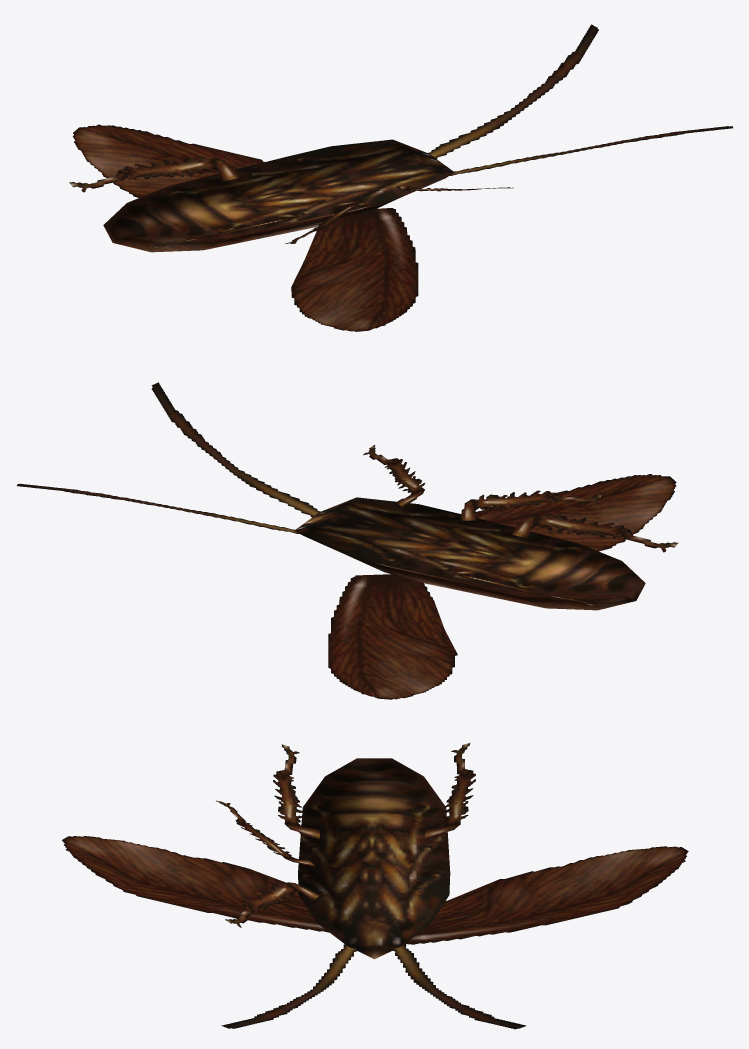
File: em029_emdui.obj
The picture shows the model from 3 angles, top to bottom: view 1: azimuth 30°, elevation 25°; view 2: azimuth 150°, elevation 25°; view 3: azimuth 270°, elevation 25°; orthographic projection. The views are drawn at different scales.
Visible parts, largest first — view 1: part_00, part_03, part_02, part_01; view 2: part_00, part_02, part_03, part_01; view 3: part_00, part_02, part_03, part_01.
Boxes of the visible parts, left/top/right/bottom form: part_00: left=69, top=139, right=513, bottom=252; part_03: left=291, top=208, right=418, bottom=331; part_02: left=73, top=124, right=264, bottom=197; part_01: left=428, top=24, right=732, bottom=175; part_00: left=294, top=445, right=677, bottom=610; part_02: left=328, top=574, right=457, bottom=699; part_03: left=475, top=474, right=676, bottom=551; part_01: left=17, top=382, right=320, bottom=533; part_00: left=216, top=742, right=475, bottom=959; part_02: left=405, top=846, right=688, bottom=944; part_03: left=62, top=836, right=329, bottom=932; part_01: left=221, top=944, right=526, bottom=1029.
Size of the model in its own units: 0.873 by 0.118 by 0.904.
1 material, 1 textured.
